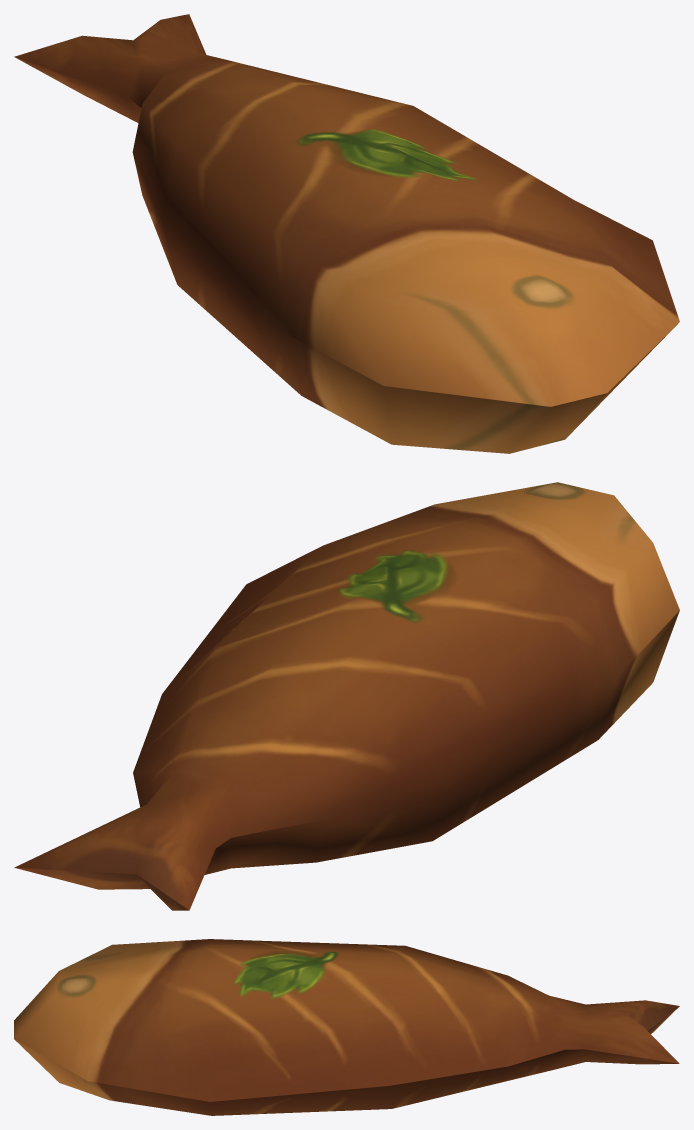
Rendered from Fish_grill.fbx.
3 views of the same model, one above another, from view 1: azimuth 30°, elevation 25°; view 2: azimuth 150°, elevation 25°; view 3: azimuth 270°, elevation 25° (orthographic). The views are drawn at different scales.
Parts seen in each view (by area): view 1: pCube438; view 2: pCube438; view 3: pCube438.
Boxes of the visible parts, x1,y1,x2,y2 form: pCube438: (14, 14, 679, 453); pCube438: (14, 482, 679, 910); pCube438: (14, 939, 679, 1115).
Size of the model in its own units: 0.3061 by 0.1568 by 0.7028.
